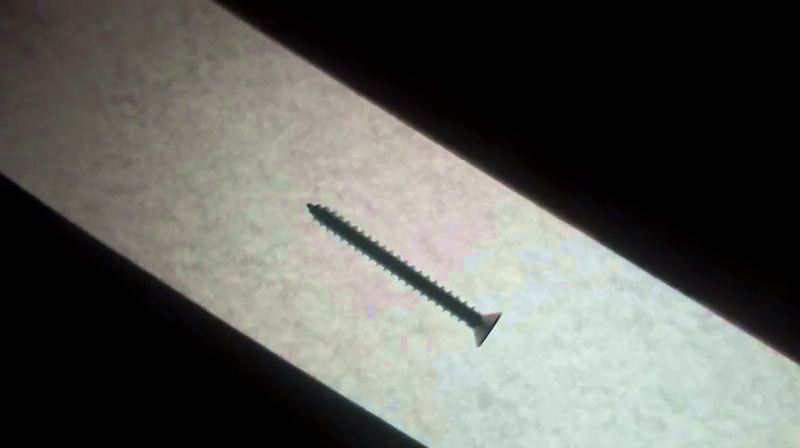S002: (303, 201, 506, 350)
